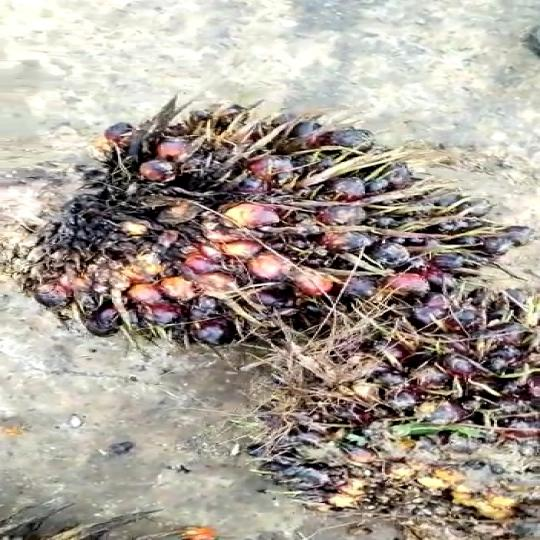kurang masak: (0, 83, 487, 324), (256, 298, 540, 516)
